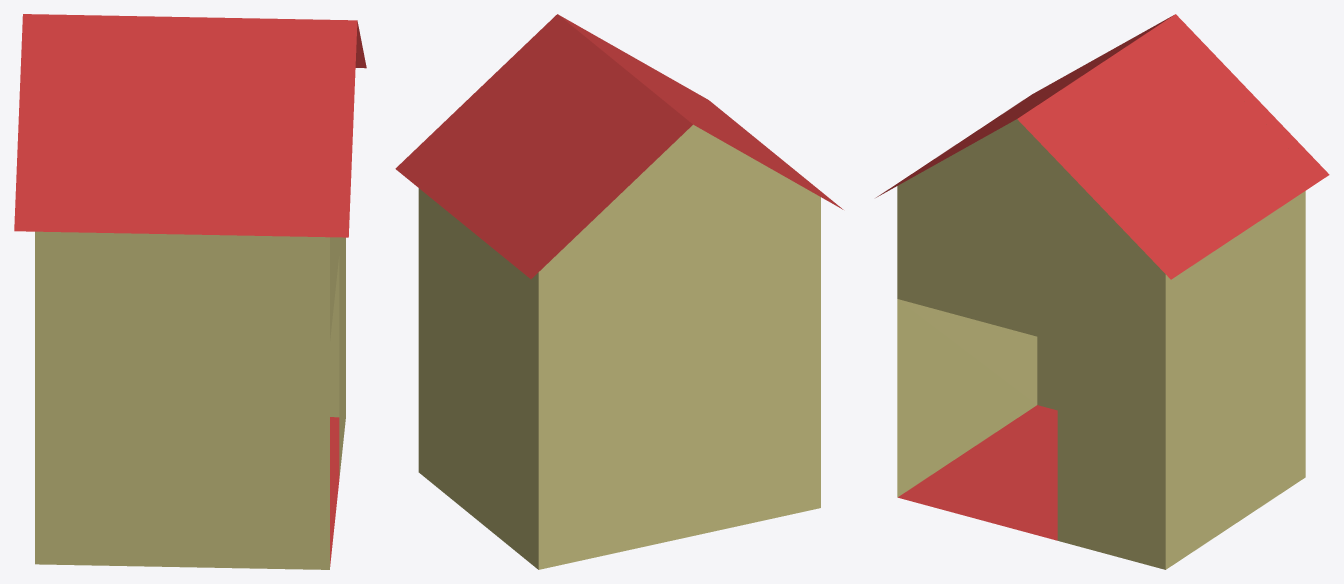
The picture shows the model from 3 angles, left to right: view 1: azimuth 30°, elevation 25°; view 2: azimuth 150°, elevation 25°; view 3: azimuth 270°, elevation 25°; orthographic projection. The views are drawn at different scales.
Size of the model in its own units: 12.54 by 13.05 by 13.23.
